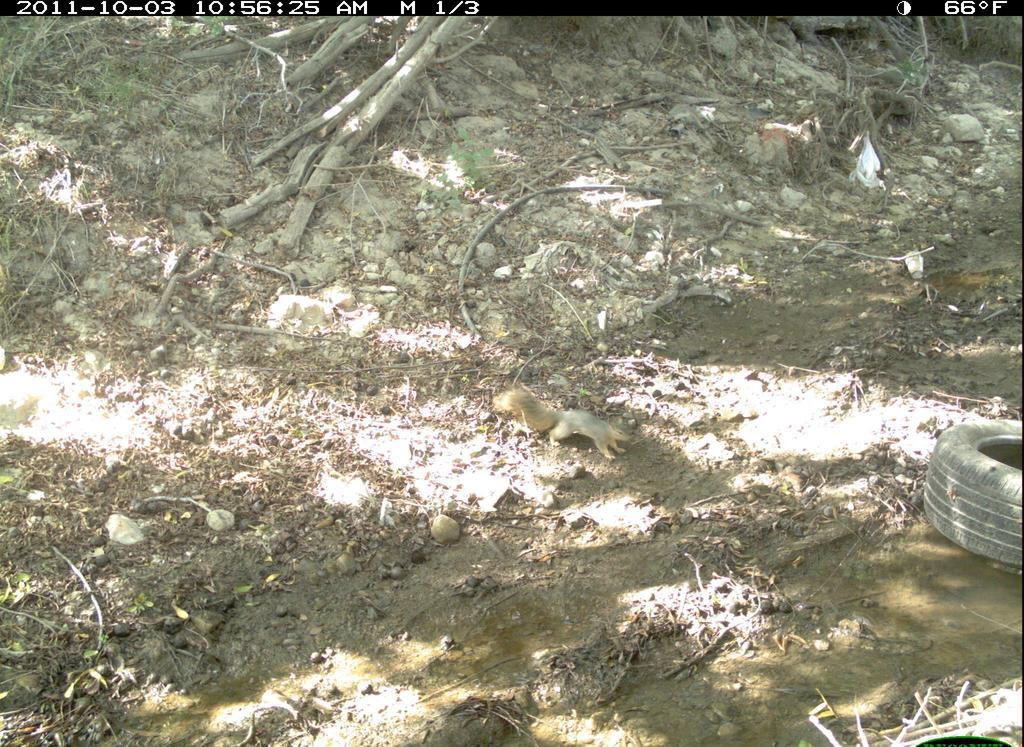squirrel: (486, 375, 643, 472)
